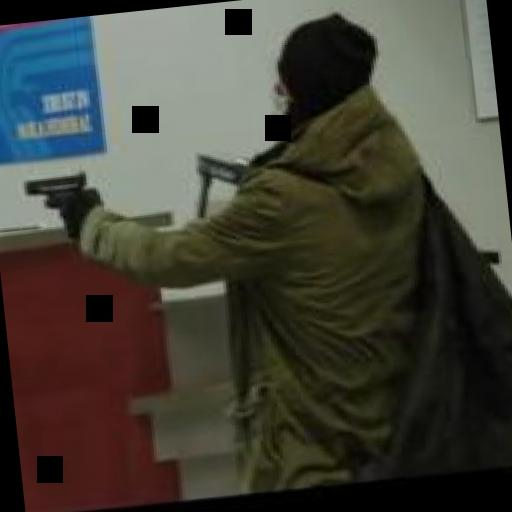Handgun: (16, 166, 98, 236)
